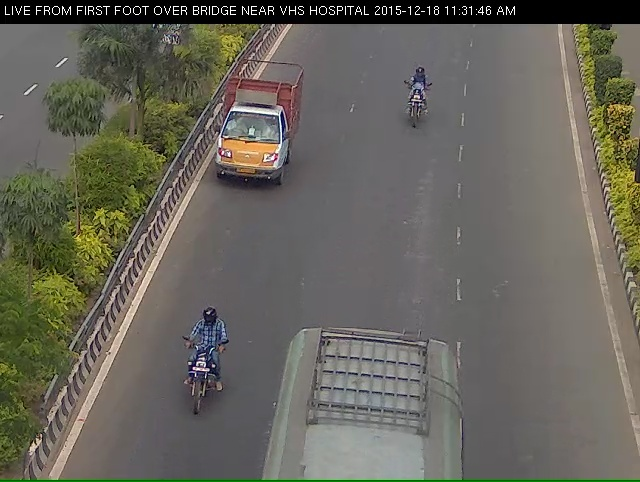Auto: (203, 75, 295, 214)
Bus: (262, 361, 471, 482)
Person: (161, 329, 208, 456), (393, 76, 440, 156)
